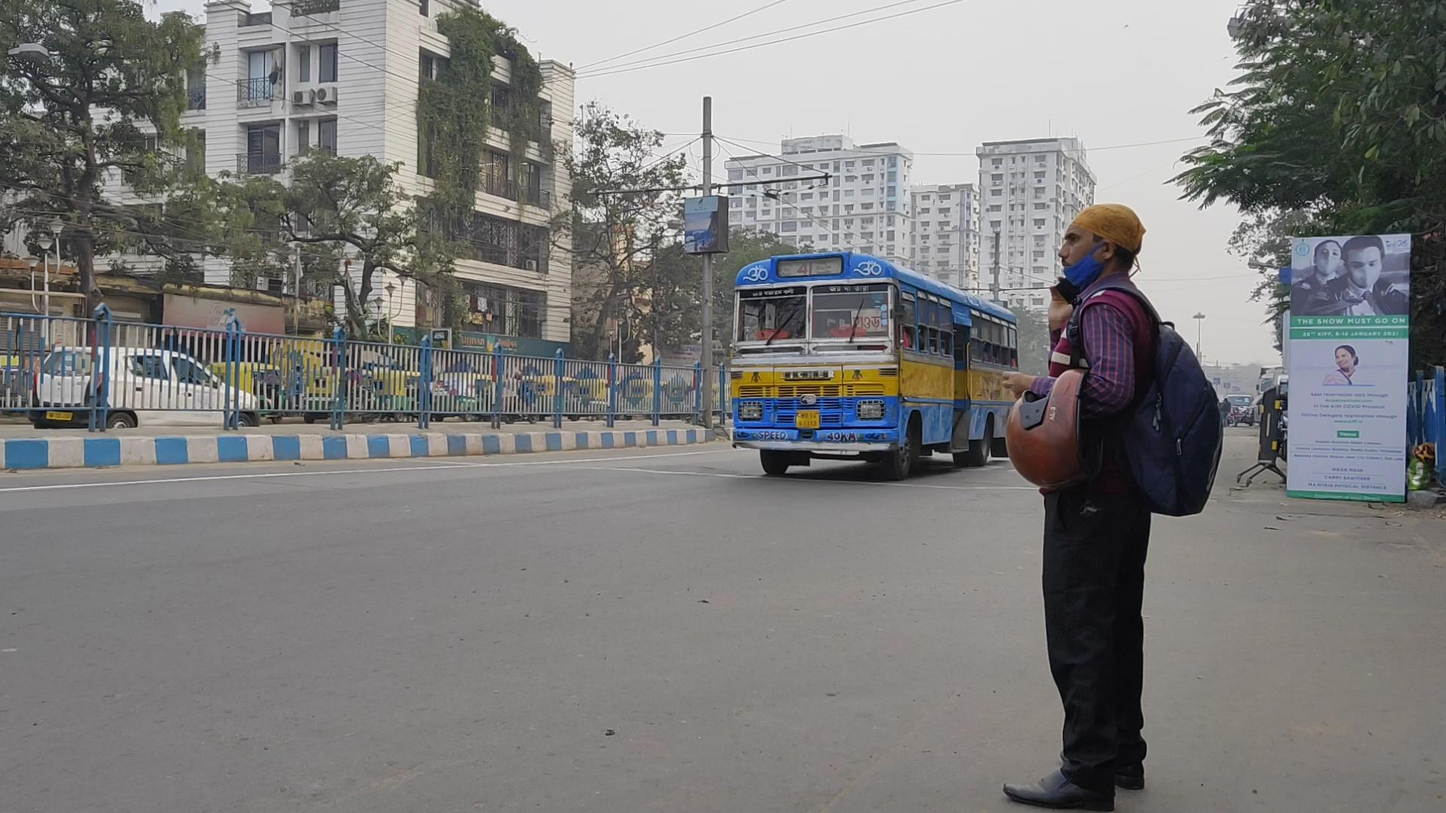Bus: (728, 250, 1024, 479)
